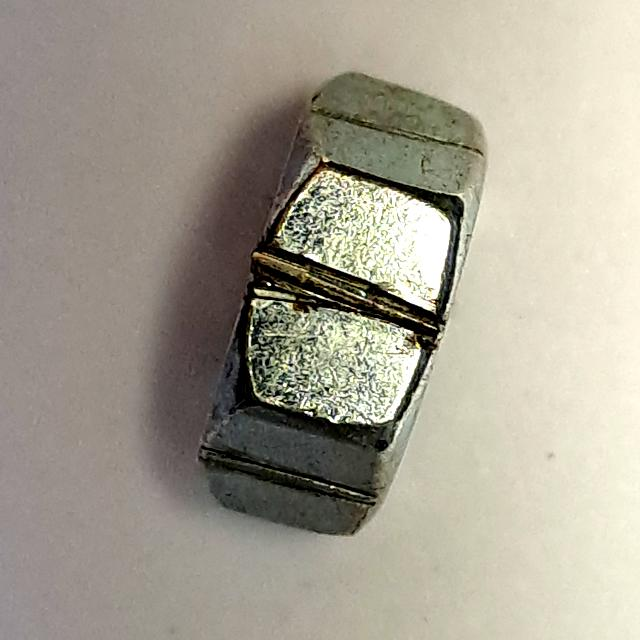Side_Scratches: (175, 55, 500, 550)
